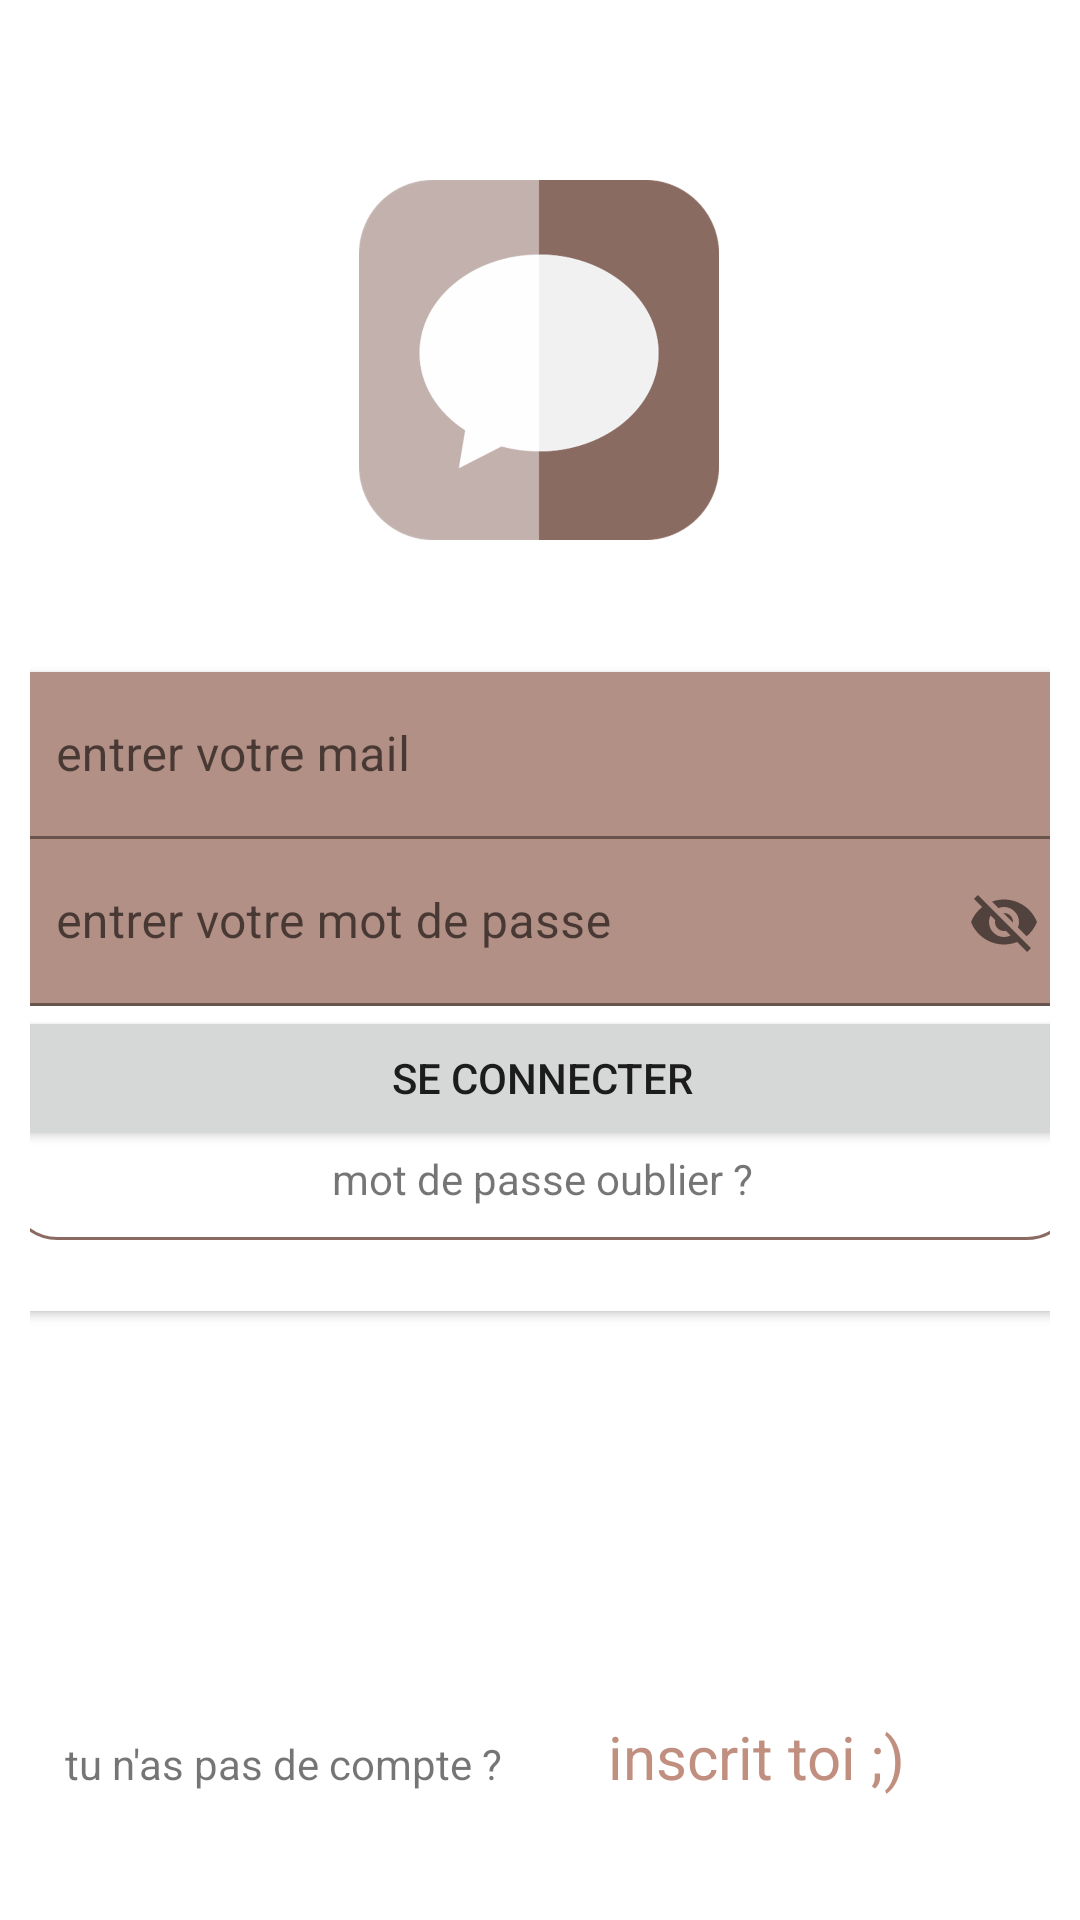

Screen size 1080*1920. Icon name, then its center in pixels as (x,y):
message: (539,360)
